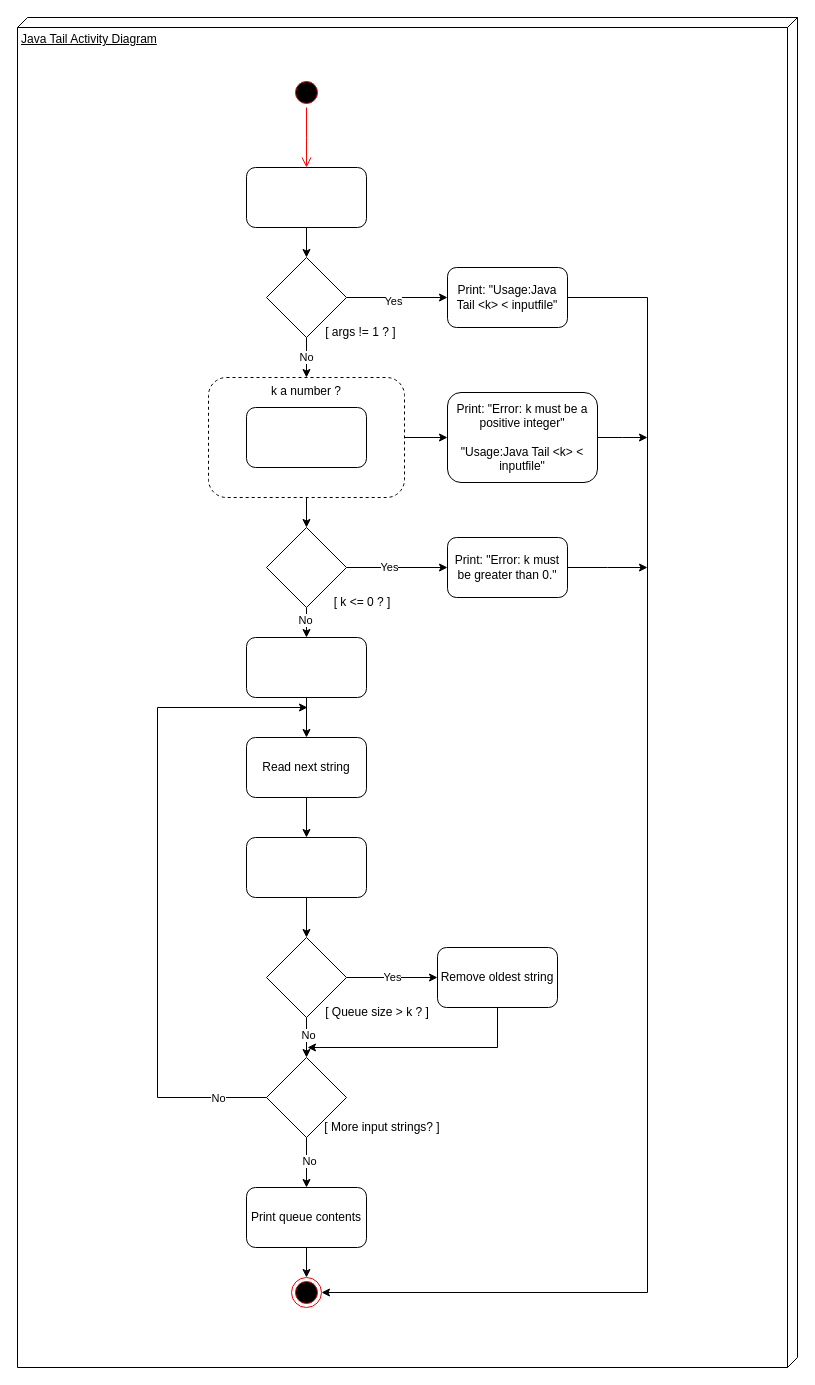
The diagram is 815 pixels wide and 1385 high, and some of its shapes have lost their labels. The shapes that lost their labels are listed below. From the top down, each one's centre as x and y in pixels, then its label:
At (306,197): "Read command line arguments".
At (306,437): "k = args".
At (306,667): "Create empty queue".
At (306,867): "Add string to queue".
